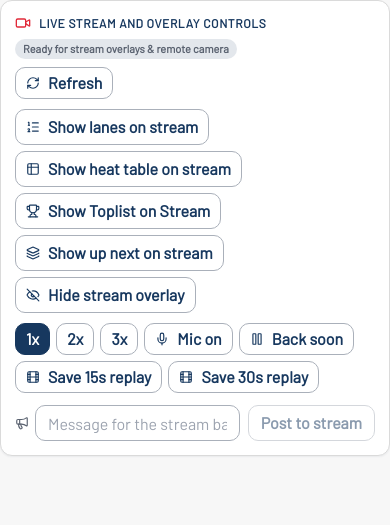
Scenario: does not send a command when the camera response is malformed
Click the button named "Remote zoom 2x". click: (75,339)
box: [56,323,94,355]
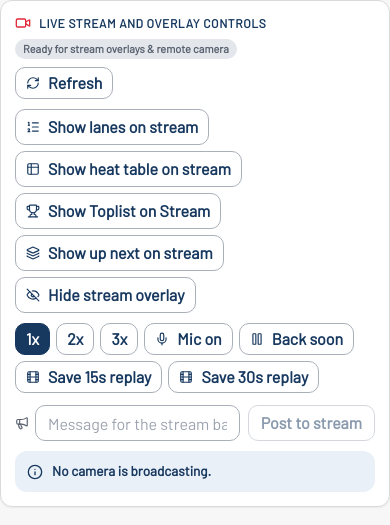
Now the message reads "No camera is broadcasting.", box [52,462,211,479]
